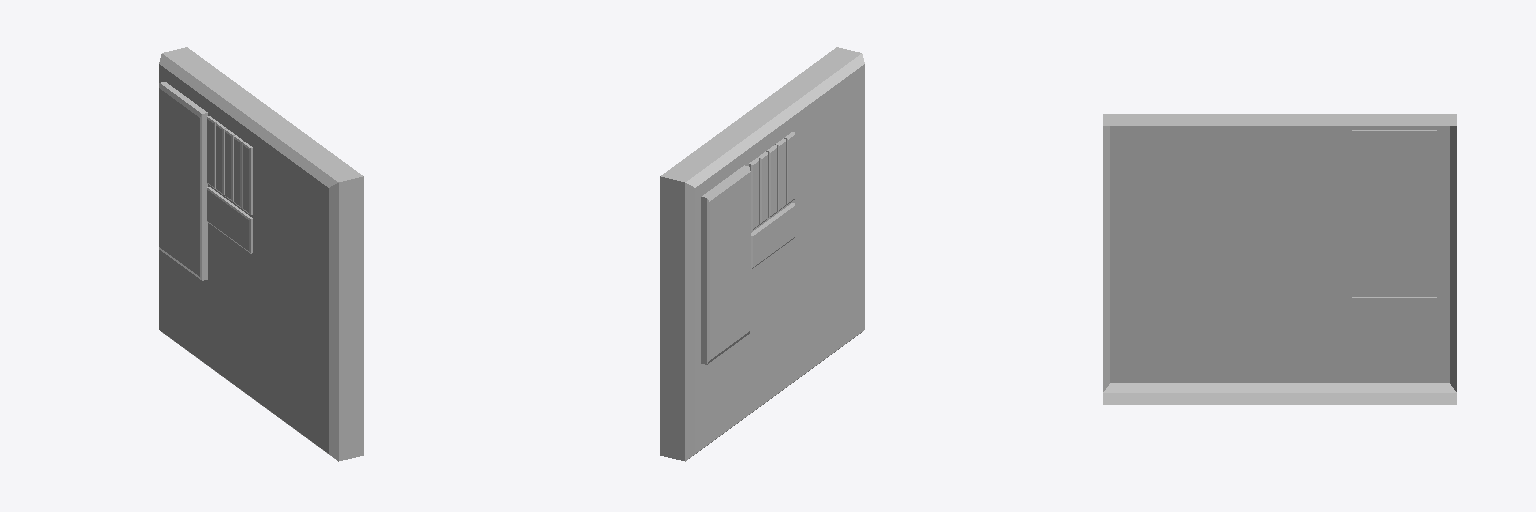
Rendered from backPanel.obj.
The picture shows the model from 3 angles: view 1: azimuth 30°, elevation 25°; view 2: azimuth 150°, elevation 25°; view 3: azimuth 270°, elevation 25°; orthographic projection.
Parts seen in each view (by area): view 1: backPanel; view 2: backPanel; view 3: backPanel.
Part boxes in pixels (bbox=[...]): backPanel: bbox=[159, 47, 363, 461]; backPanel: bbox=[660, 47, 864, 461]; backPanel: bbox=[1103, 114, 1456, 404].
Bounding box in the file's own units: 1.81 × 12.4 × 14.23.